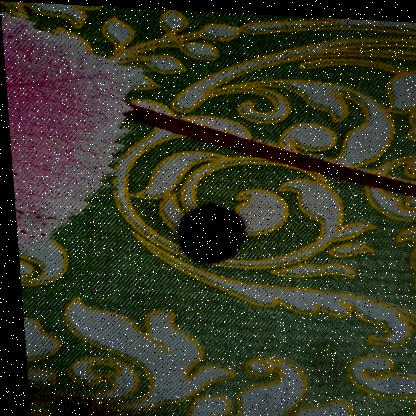spot: (148, 194, 254, 268)
